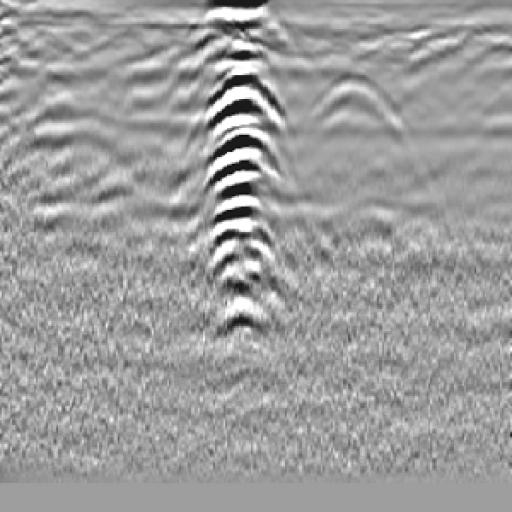metalic: (166, 26, 294, 351)
nonmetalic: (287, 54, 436, 205)
